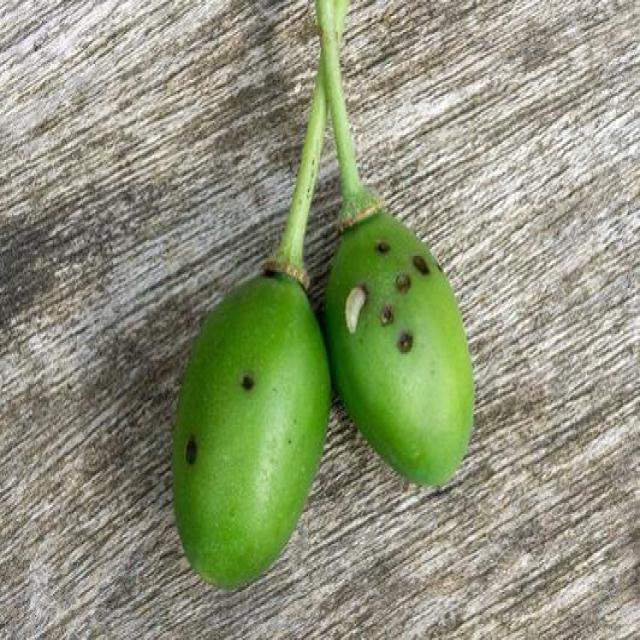Anthracnose: (173, 270, 331, 581), (324, 212, 472, 482)
